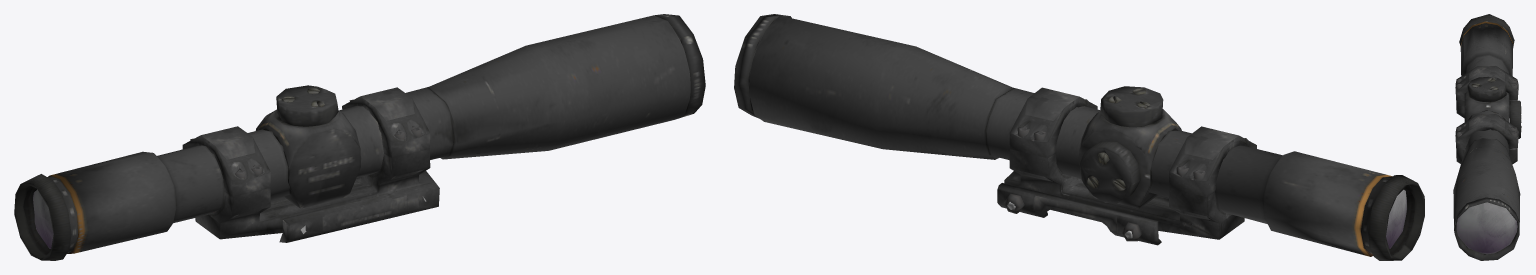
The model's file is Rifle_8XScope.fbx.
The picture shows the model from 3 angles, left to right: view 1: azimuth 30°, elevation 25°; view 2: azimuth 150°, elevation 25°; view 3: azimuth 270°, elevation 25°; orthographic projection. The views are drawn at different scales.
Visible parts, largest first — view 1: 8xScope; view 2: 8xScope; view 3: 8xScope.
Boxes of the visible parts, x1,y1,x2,y2 form: 8xScope: (14, 14, 705, 260); 8xScope: (734, 14, 1424, 260); 8xScope: (1453, 14, 1521, 260).
Size of the model in its own units: 0.1986 by 0.0381 by 0.0293.
